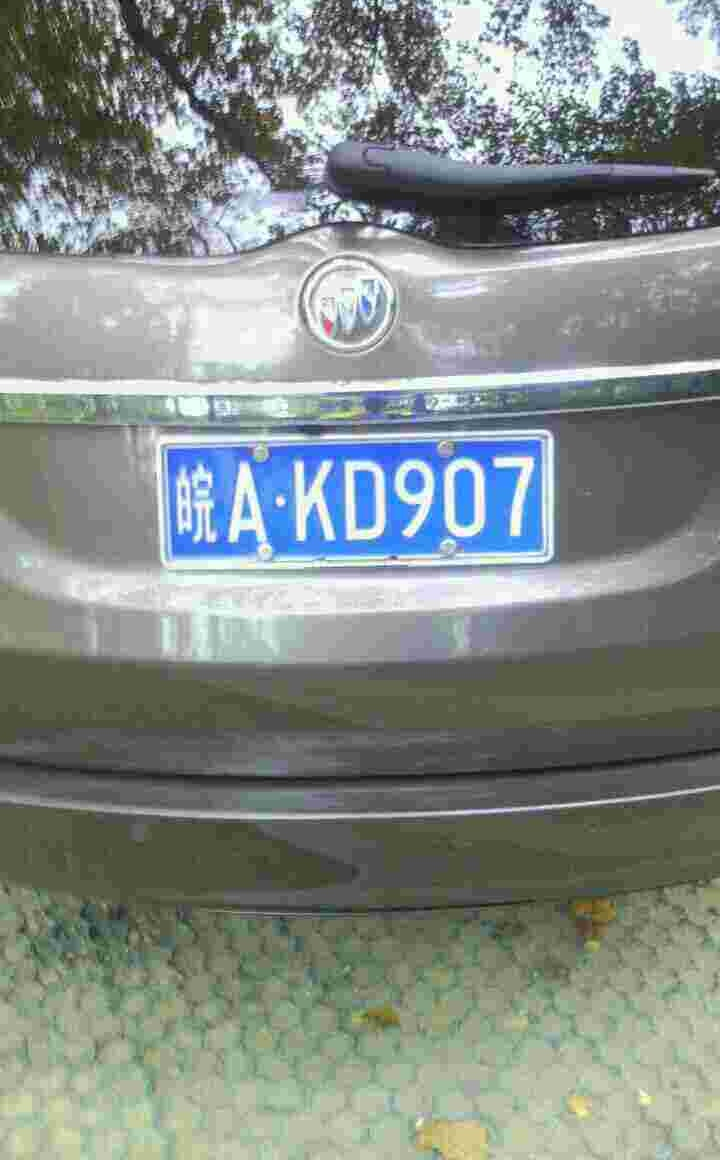license_plate: (177, 446, 548, 565)
